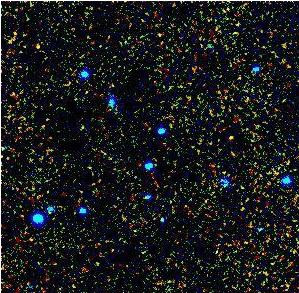star: (217, 118, 247, 148)
